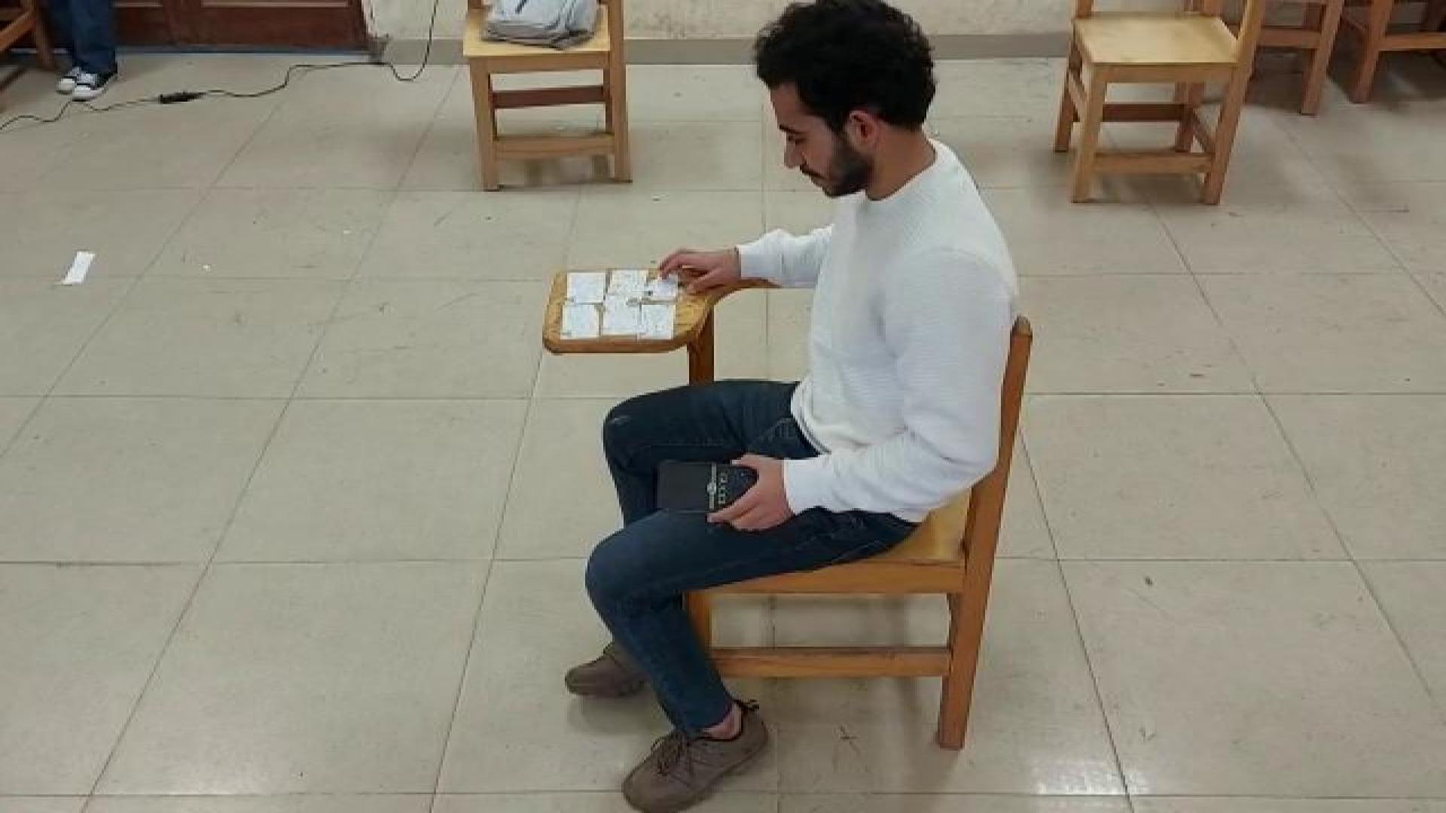phone: (651, 462, 759, 515)
